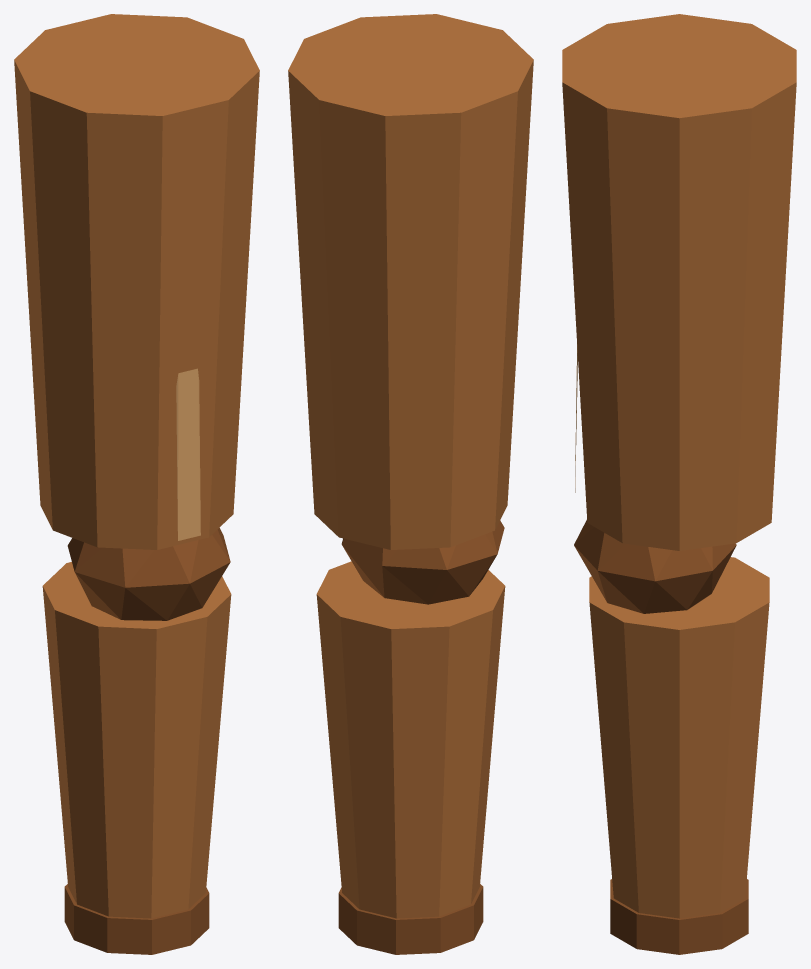
Rendered from gear_bronze_legs_leg_r.glb.
The picture shows the model from 3 angles, left to right: view 1: azimuth 30°, elevation 25°; view 2: azimuth 150°, elevation 25°; view 3: azimuth 270°, elevation 25°; orthographic projection.
Parts seen in each view (by area): view 1: gear_bronze_legs_leg_r; view 2: gear_bronze_legs_leg_r; view 3: gear_bronze_legs_leg_r.
Part boxes in pixels (x1,y1,x2,y2): gear_bronze_legs_leg_r: (14,14,259,954); gear_bronze_legs_leg_r: (288,14,533,954); gear_bronze_legs_leg_r: (562,14,796,954).
Size of the model in its own units: 0.224 by 0.86 by 0.213.
